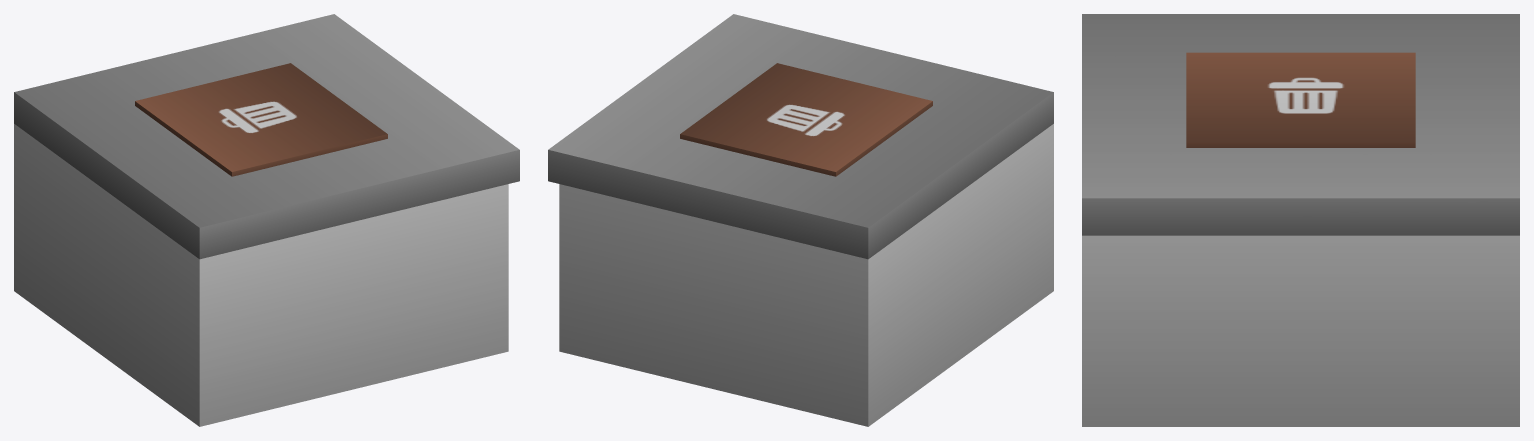
File: DoubleCooked_Trash.fbx
3 views of the same model, side by side, from view 1: azimuth 30°, elevation 25°; view 2: azimuth 150°, elevation 25°; view 3: azimuth 270°, elevation 25° (orthographic). The views are drawn at different scales.
Parts seen in each view (by area): view 1: DoubleCooked_Trash, DoubleCooked_Trash_Door; view 2: DoubleCooked_Trash, DoubleCooked_Trash_Door; view 3: DoubleCooked_Trash, DoubleCooked_Trash_Door.
Part boxes in pixels (bbox=[...]): DoubleCooked_Trash: bbox=[14, 14, 519, 426]; DoubleCooked_Trash_Door: bbox=[135, 63, 387, 176]; DoubleCooked_Trash: bbox=[548, 14, 1053, 426]; DoubleCooked_Trash_Door: bbox=[680, 63, 932, 176]; DoubleCooked_Trash: bbox=[1082, 14, 1519, 426]; DoubleCooked_Trash_Door: bbox=[1186, 52, 1415, 147].
Size of the model in its own units: 77.25 by 46.98 by 77.5.
1 material, 1 textured.
